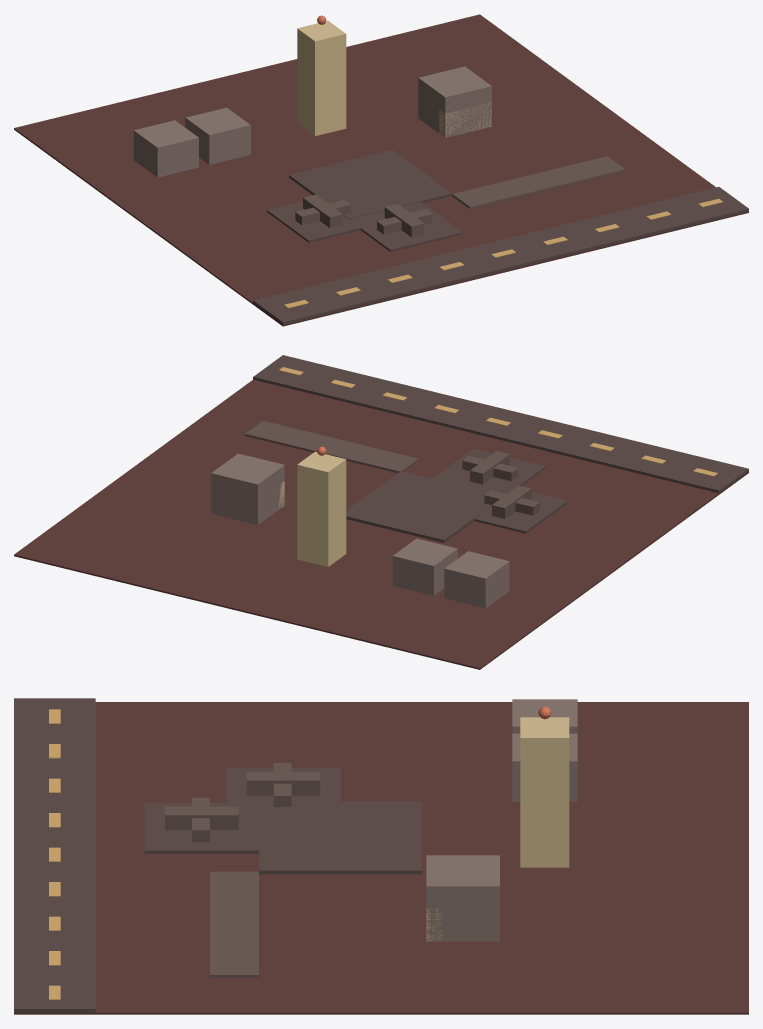
File: stage_08.glb
3 views of the same model, one above another, from view 1: azimuth 30°, elevation 25°; view 2: azimuth 150°, elevation 25°; view 3: azimuth 270°, elevation 25° (orthographic). The views are drawn at different scales.
Visible parts, largest first — view 1: geometry_0; view 2: geometry_0; view 3: geometry_0.
Boxes of the visible parts, x1,y1,x2,y2 form: geometry_0: (14, 14, 748, 326); geometry_0: (14, 355, 748, 669); geometry_0: (14, 698, 748, 1014).
Bounding box in the file's own units: 9 × 2.06 × 9.
